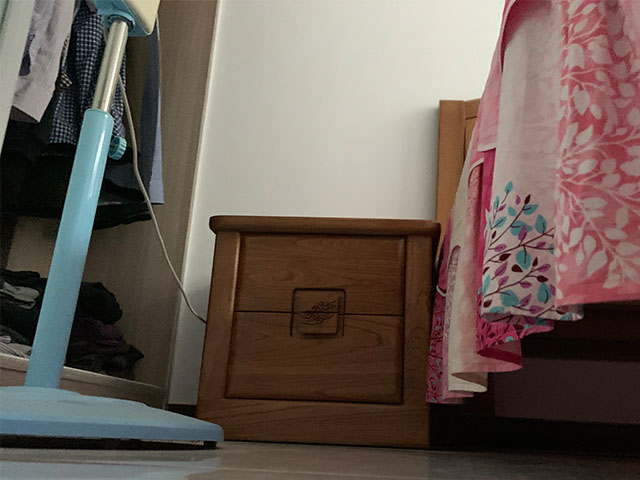bed: (424, 1, 640, 448)
cabinet: (196, 214, 442, 449)
